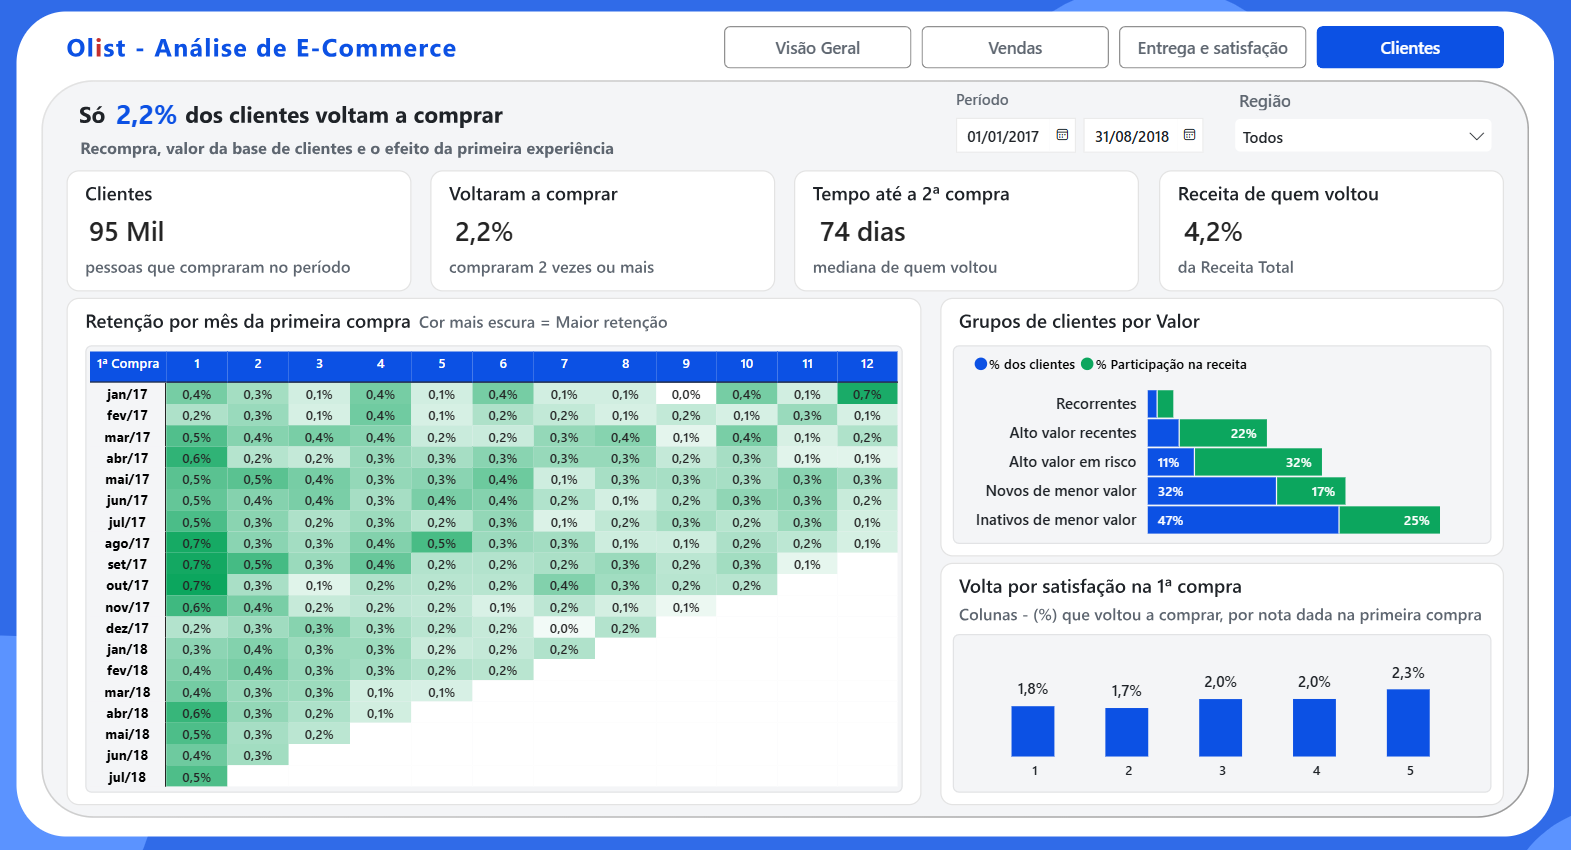

Layout of this report page (visuals, bound fields, positions):
{"tool":"powerbi","page":{"name":"Clientes","canvas":[1280,720],"ordinal":3},"visuals":[{"type":"pageNavigator","box":[592,41.3,624.3,35],"z":0},{"type":"slicer","fields":{"Values":["dUF.regiao"]},"box":[996.3,91.7,215.3,60.1],"z":1000},{"type":"slicer","fields":{"Values":["dCalendario.Data"]},"box":[769.4,91.7,218,60.1],"z":2000},{"type":"cardVisual","fields":{"Data":["Medidas.Clientes"]},"box":[68,186,140,35],"z":3000},{"type":"cardVisual","fields":{"Data":["Medidas.% Clientes que voltam"]},"box":[360.5,186,140,35],"z":4000},{"type":"cardVisual","fields":{"Data":["Medidas.Tempo até a 2ª compra (texto)"]},"box":[652.9,186,140,35],"z":5000},{"type":"cardVisual","fields":{"Data":["Medidas.% Receita de quem voltou"]},"box":[944,186.1,140,35.2],"z":6000},{"type":"pivotTable","fields":{"Columns":["fCoorte.mes_apos"],"Rows":["fCoorte.coorte"],"Values":["Medidas.Retenção da coorte"]},"box":[69.1,288.1,684.7,379.3],"z":7000},{"type":"barChart","fields":{"Category":["dClientes.segmento"],"Y":["Medidas.% dos clientes","Medidas.% Participação na receita"]},"box":[775.6,283.7,429.9,179.6],"z":8000},{"type":"columnChart","fields":{"Category":["dClientes.nota_1a_compra"],"Y":["Medidas.% Clientes que voltam"]},"box":[775.6,525.4,429.9,140.4],"z":9000},{"type":"cardVisual","fields":{"Data":["Medidas.% Clientes que voltam"]},"box":[89.8,92.7,90,35.3],"z":9001}]}

Visuals, with their boxes on the page's 1280x720 design canvas (x1, y1, x2, y2). These are canvas units, not pixel positions in the 1571x850 screenshot, which may show the page scaled, cropped or inside an application window:
pageNavigator: box=[592, 41, 1216, 76]
slicer - dUF.regiao: box=[996, 92, 1212, 152]
slicer - dCalendario.Data: box=[769, 92, 987, 152]
cardVisual - Medidas.Clientes: box=[68, 186, 208, 221]
cardVisual - Medidas.% Clientes que voltam: box=[360, 186, 500, 221]
cardVisual - Medidas.Tempo até a 2ª compra (texto): box=[653, 186, 793, 221]
cardVisual - Medidas.% Receita de quem voltou: box=[944, 186, 1084, 221]
pivotTable - fCoorte.mes_apos x fCoorte.coorte: box=[69, 288, 754, 667]
barChart - dClientes.segmento x Medidas.% dos clientes: box=[776, 284, 1206, 463]
columnChart - dClientes.nota_1a_compra x Medidas.% Clientes que voltam: box=[776, 525, 1206, 666]
cardVisual - Medidas.% Clientes que voltam: box=[90, 93, 180, 128]
